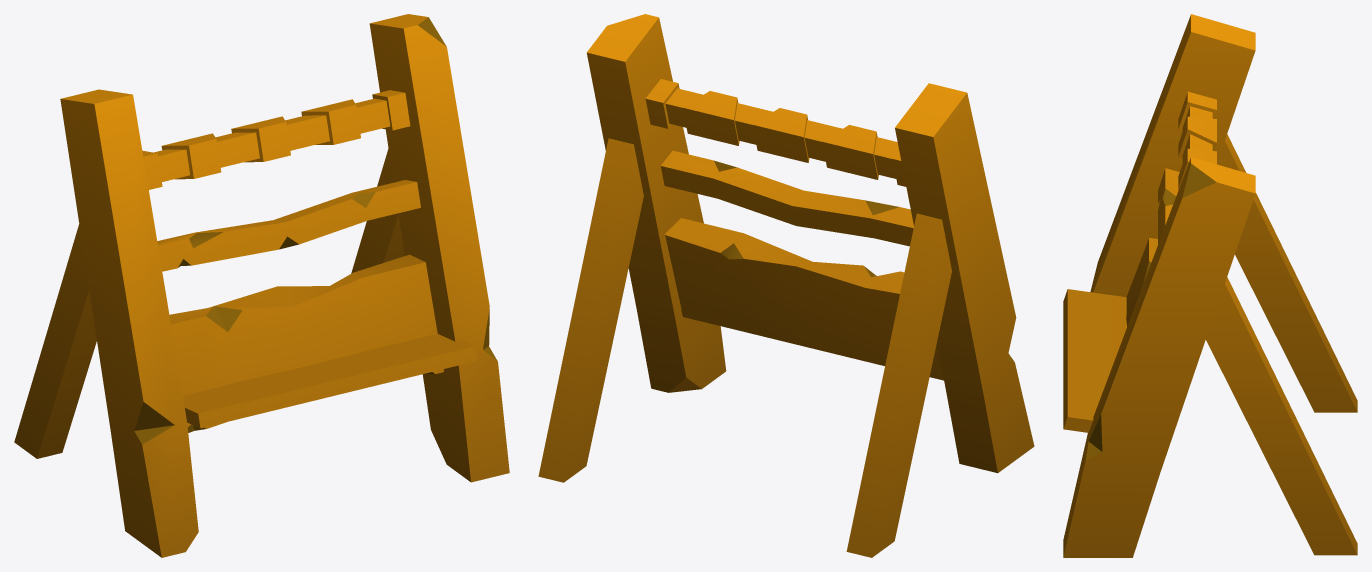
File: Weapon_Rack_A01.glb
3 renders of one model, left to right at view 1: azimuth 30°, elevation 25°; view 2: azimuth 150°, elevation 25°; view 3: azimuth 270°, elevation 25°, orthographic. The views are drawn at different scales.
Visible parts, largest first — view 1: Weapon_Rack_A01; view 2: Weapon_Rack_A01; view 3: Weapon_Rack_A01.
Boxes of the visible parts, box(x1,y1,x2,y2) form: Weapon_Rack_A01: box(14, 14, 509, 557); Weapon_Rack_A01: box(538, 14, 1034, 557); Weapon_Rack_A01: box(1063, 14, 1357, 557).
Size of the model in its own units: 1.11 by 1.23 by 0.8577.
Materials: 1 (1 with a texture image).
